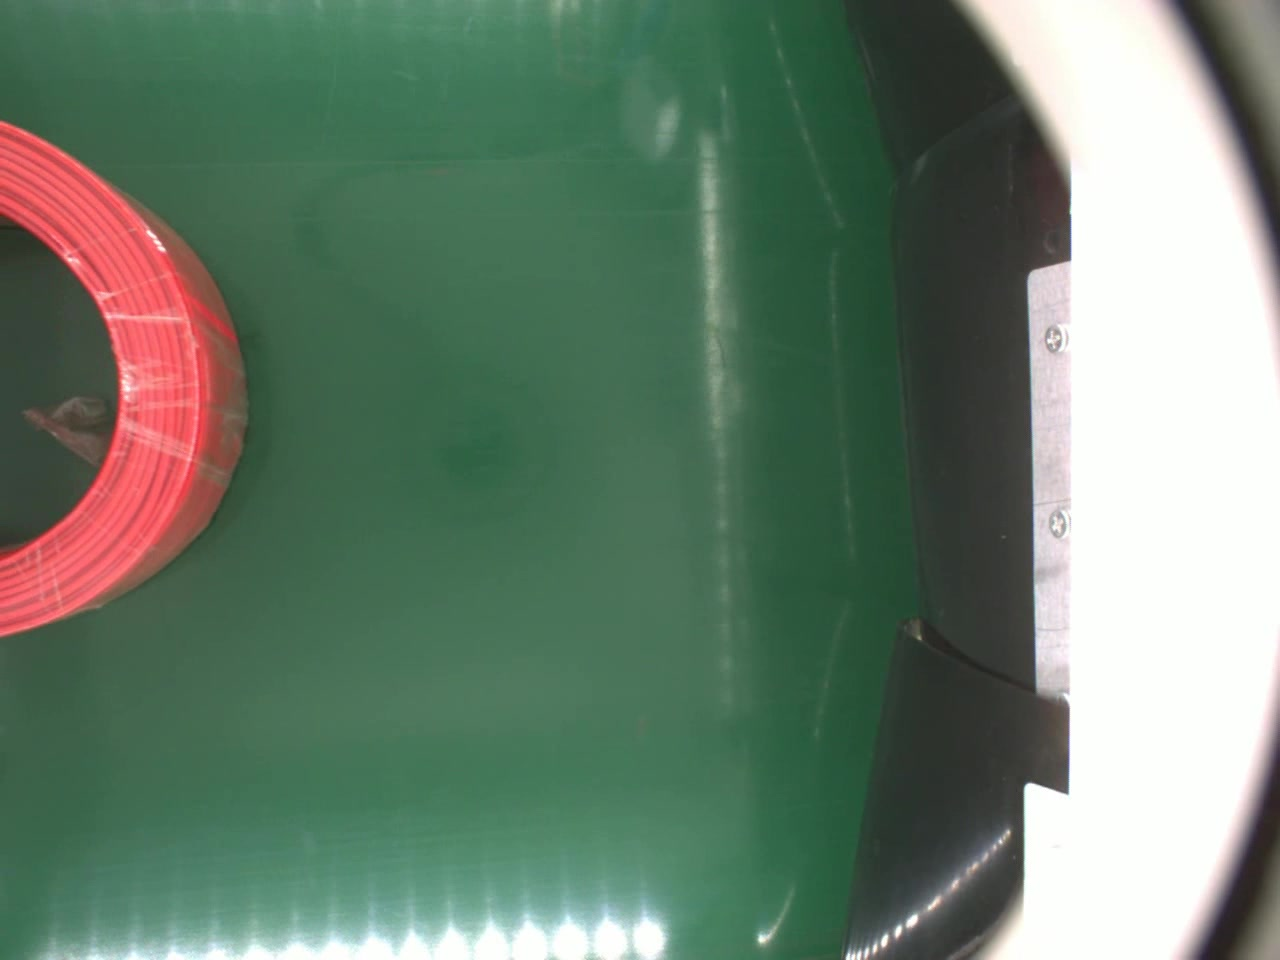red: (0, 117, 247, 635)
